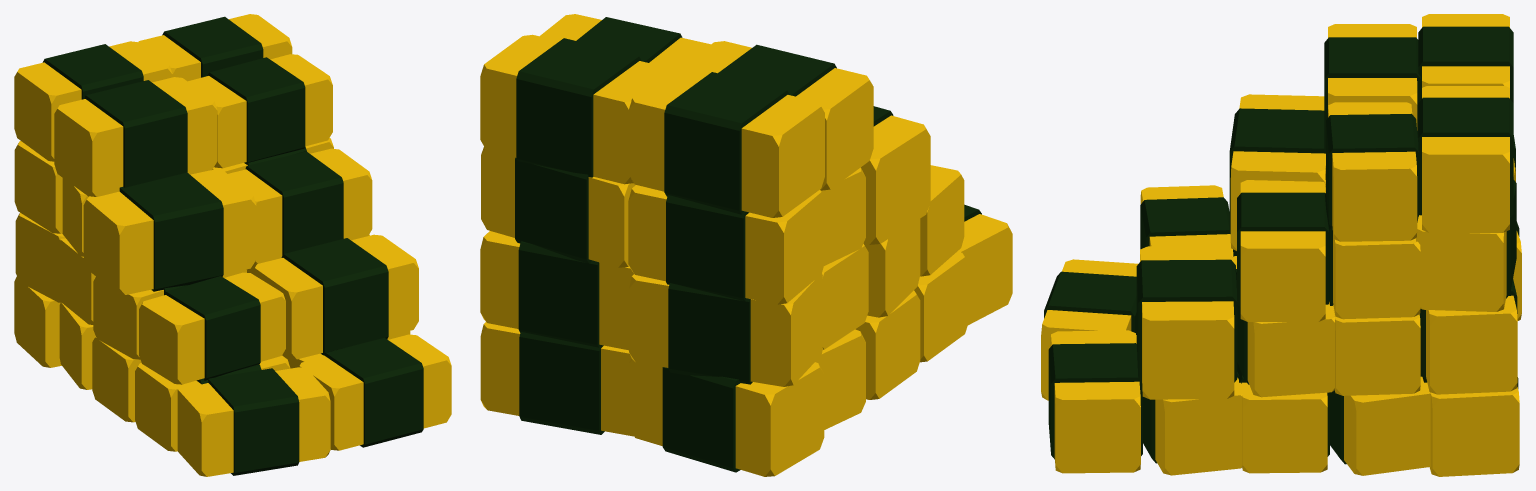
File: Objet Grange#4.FBX
3 renders of one model, left to right at view 1: azimuth 30°, elevation 25°; view 2: azimuth 150°, elevation 25°; view 3: azimuth 270°, elevation 25°, orthographic. The views are drawn at different scales.
Parts seen in each view (by area): view 1: Carré de foin Grange02; view 2: Carré de foin Grange02; view 3: Carré de foin Grange02.
Boxes of the visible parts, bbox=[...] form: Carré de foin Grange02: bbox=[14, 14, 451, 476]; Carré de foin Grange02: bbox=[480, 14, 1012, 476]; Carré de foin Grange02: bbox=[1041, 14, 1521, 476].
Size of the model in its own units: 273 by 284 by 372.
